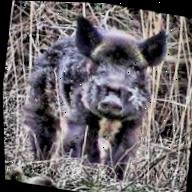boar: (15, 0, 190, 177)
